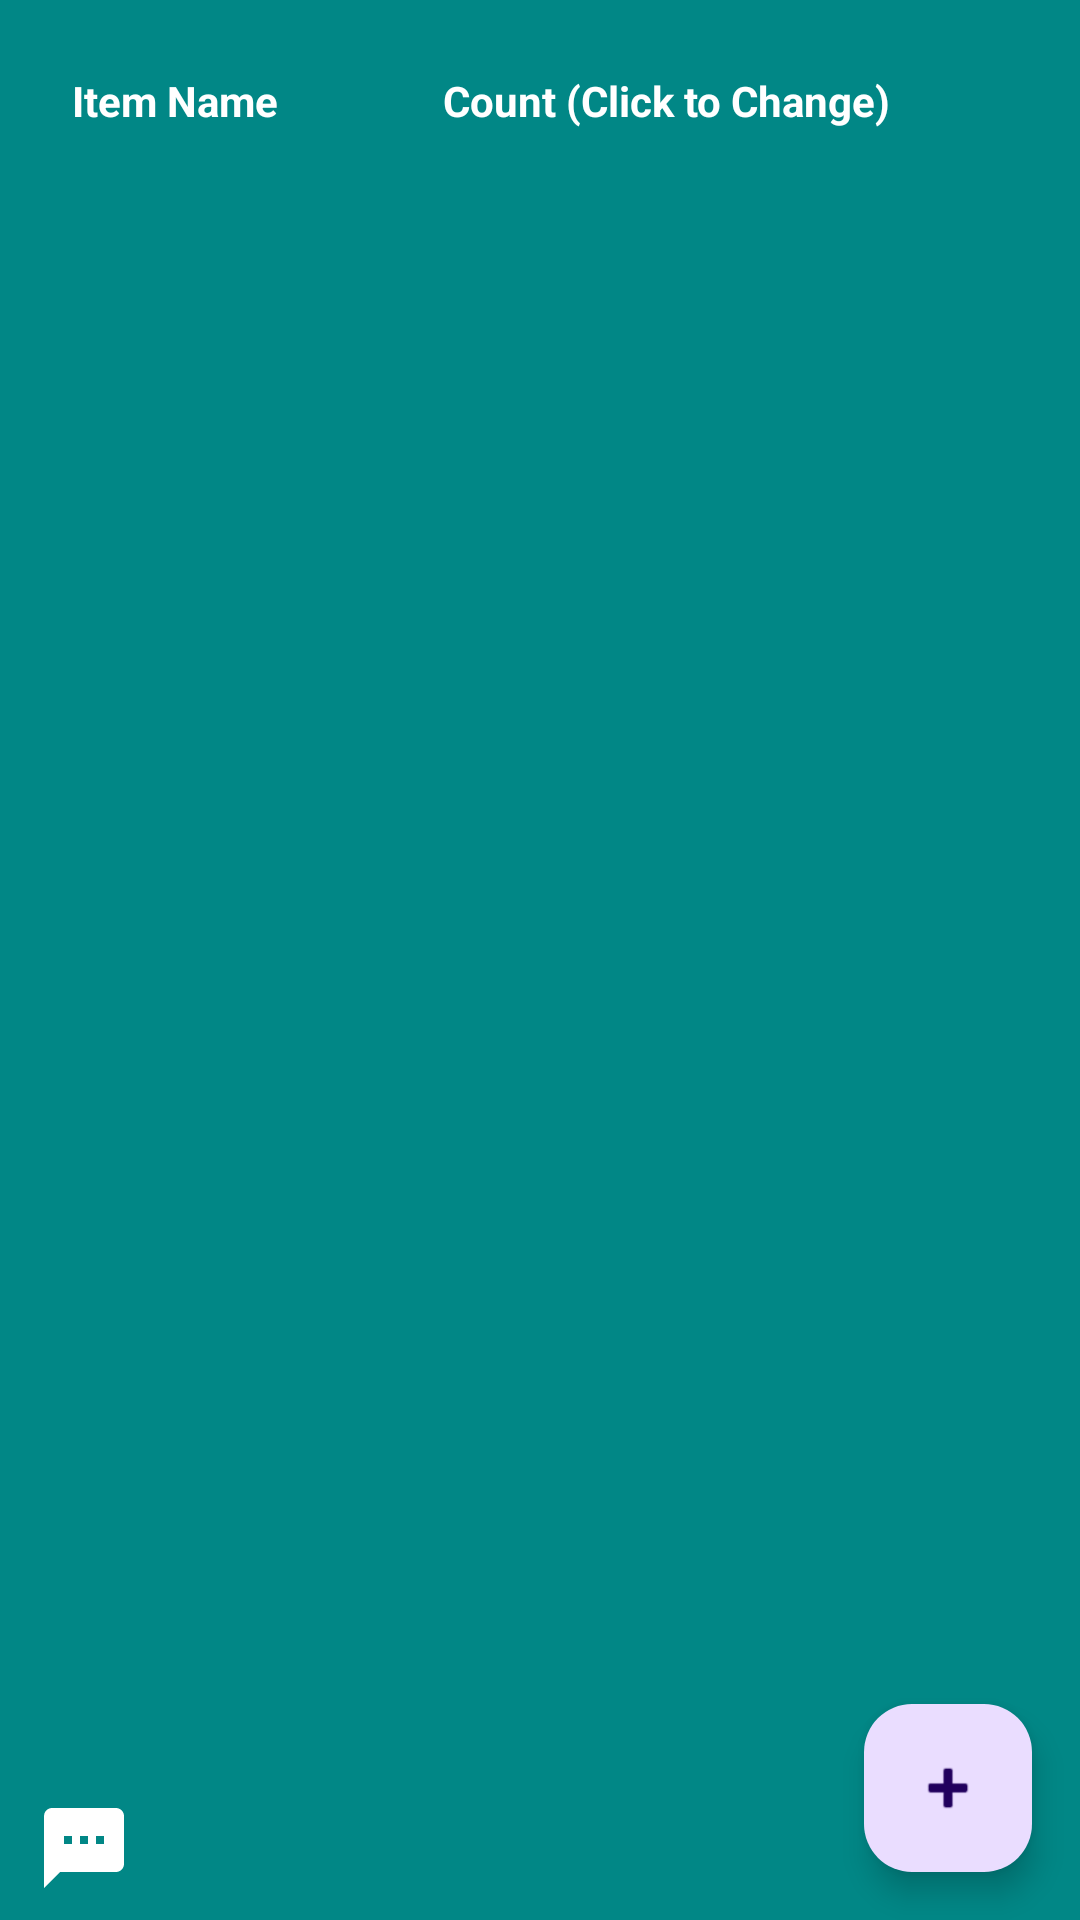

Point at icon controls on the screen. Image size 1080x1920, points as (x=x, y=y).
Add Item: (x=948, y=1788)
sms notification: (x=84, y=1848)
